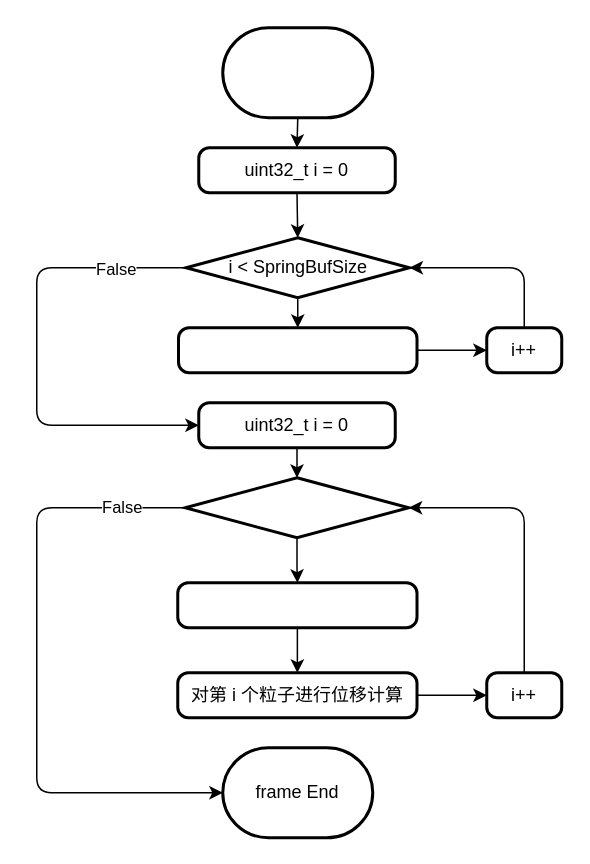
Some shapes in this 590 by 864 pixel diagram are drawn without their labels. Each missing label, with the centre of its shape:
frame Begin: the point at 297,72
i < PointBufSize: the point at 296,507
对第 i 个粒子进行碰撞检测: the point at 297,604
计算第 i 个弹簧的端点受力: the point at 297,350
